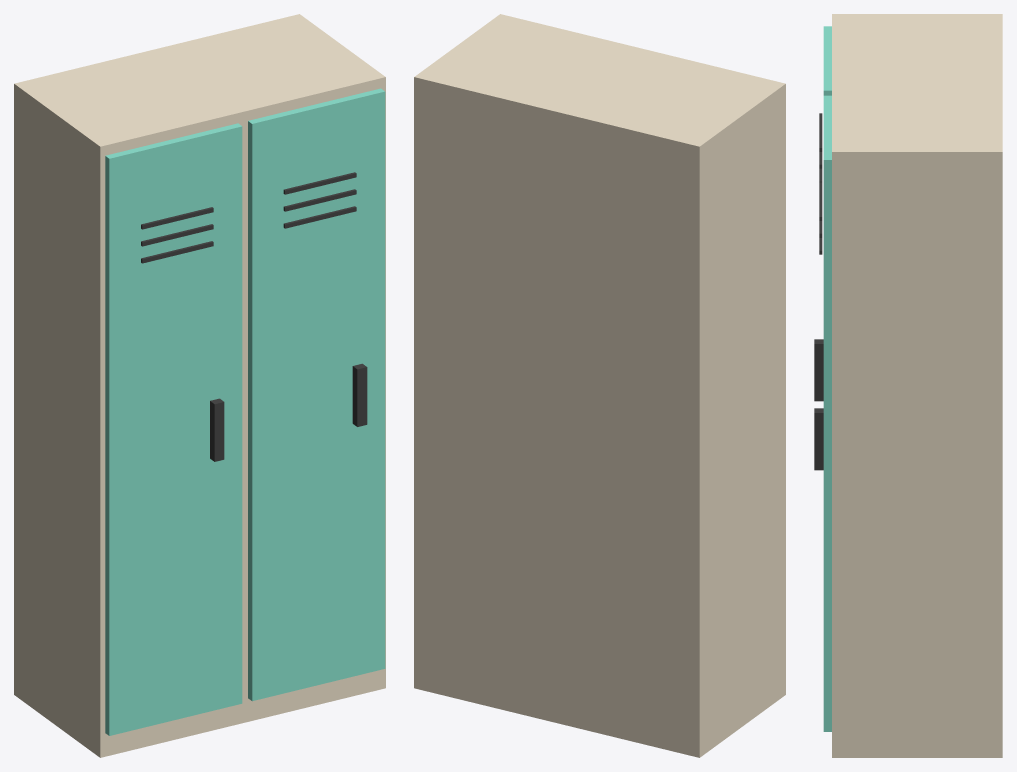
The picture shows the model from 3 angles, left to right: view 1: azimuth 30°, elevation 25°; view 2: azimuth 150°, elevation 25°; view 3: azimuth 270°, elevation 25°; orthographic projection.
Parts seen in each view (by area): view 1: Case, Door.001, Door, Handle.001, Handle; view 2: Case; view 3: Case, Door.001, Door, Handle, Handle.001.
Part boxes in pixels (box(x1,y1,x2,y2)): Case: box(14, 14, 385, 757); Door.001: box(248, 88, 385, 701); Door: box(105, 123, 242, 735); Handle.001: box(352, 363, 367, 426); Handle: box(210, 398, 224, 461); Case: box(414, 14, 785, 757); Case: box(832, 14, 1002, 757); Door.001: box(823, 95, 831, 731); Door: box(823, 26, 831, 95); Handle: box(814, 339, 823, 401); Handle.001: box(814, 408, 823, 470).
Bounding box in the file's own units: 0.88 × 1.8 × 0.5075.
Materials: 1 (1 with a texture image).
